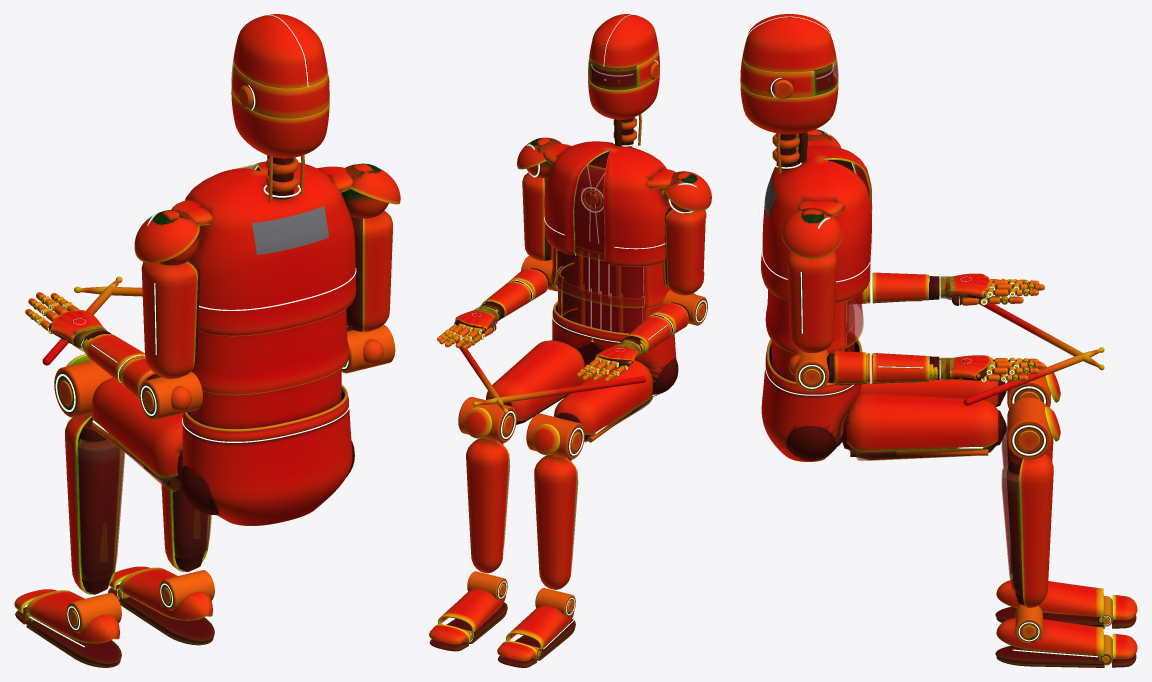
The model's file is robot_drummer.glb.
3 views of the same model, side by side, from view 1: azimuth 30°, elevation 25°; view 2: azimuth 150°, elevation 25°; view 3: azimuth 270°, elevation 25° (orthographic). The views are drawn at different scales.
Parts seen in each view (by area): view 1: Chest, Pelvis, Head, UpperArmL, ShinL, Spine2, ThighL, UpperArmR, Spine1, ShinR, FootL, FootR (+8 smaller); view 2: Chest, Head, ShinL, ShinR, ThighR, UpperArmL, ThighL, Spine2, Pelvis, Spine1, UpperArmR, FootL (+14 smaller); view 3: ThighR, Head, Chest, ShinR, UpperArmR, Pelvis, FootR, ThighL, FootL, Spine2, ForearmTwistL, ForearmTwistR (+11 smaller).
Part boxes in pixels (x1=…): Chest: x1=185, y1=161, x2=356, y2=336; Pelvis: x1=180, y1=385, x2=354, y2=525; Head: x1=231, y1=14, x2=329, y2=158; UpperArmL: x1=134, y1=210, x2=202, y2=420; ShinL: x1=65, y1=354, x2=124, y2=633; Spine2: x1=191, y1=309, x2=349, y2=395; ThighL: x1=54, y1=360, x2=183, y2=491; UpperArmR: x1=341, y1=164, x2=400, y2=373; Spine1: x1=190, y1=369, x2=341, y2=428; ShinR: x1=159, y1=483, x2=214, y2=610; FootL: x1=26, y1=590, x2=121, y2=667; FootR: x1=119, y1=567, x2=216, y2=645; Chest: x1=544, y1=141, x2=669, y2=266; Head: x1=588, y1=14, x2=659, y2=119; ShinL: x1=532, y1=424, x2=578, y2=616; ShinR: x1=464, y1=407, x2=510, y2=599; ThighR: x1=458, y1=340, x2=594, y2=442; UpperArmL: x1=662, y1=171, x2=711, y2=325; ThighL: x1=526, y1=360, x2=661, y2=459; Spine2: x1=551, y1=246, x2=669, y2=308; Pelvis: x1=552, y1=301, x2=678, y2=394; Spine1: x1=557, y1=262, x2=660, y2=333; UpperArmR: x1=517, y1=137, x2=562, y2=291; FootL: x1=506, y1=605, x2=577, y2=660; ThighR: x1=818, y1=393, x2=1050, y2=460; Head: x1=740, y1=14, x2=838, y2=134; Chest: x1=761, y1=146, x2=872, y2=303; ShinR: x1=1001, y1=407, x2=1060, y2=643; UpperArmR: x1=782, y1=208, x2=842, y2=391; Pelvis: x1=761, y1=331, x2=862, y2=461; FootR: x1=995, y1=618, x2=1104, y2=667; ThighL: x1=860, y1=354, x2=1050, y2=408; FootL: x1=995, y1=580, x2=1104, y2=628; Spine2: x1=765, y1=290, x2=863, y2=354; ForearmTwistL: x1=870, y1=272, x2=939, y2=303; ForearmTwistR: x1=870, y1=353, x2=939, y2=383.
Size of the model in its own units: 0.5171 by 1.35 by 0.7769.
